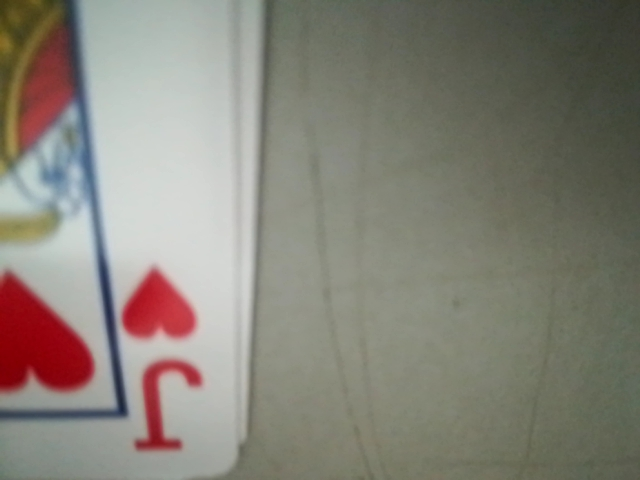hx j: (121, 248, 202, 460)
